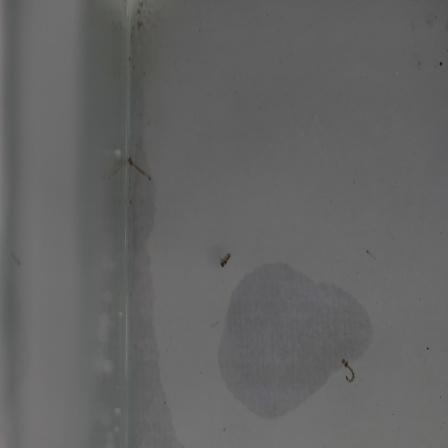Jentik-Nyamuk: (125, 153, 154, 186), (338, 354, 358, 387), (214, 250, 237, 272)
